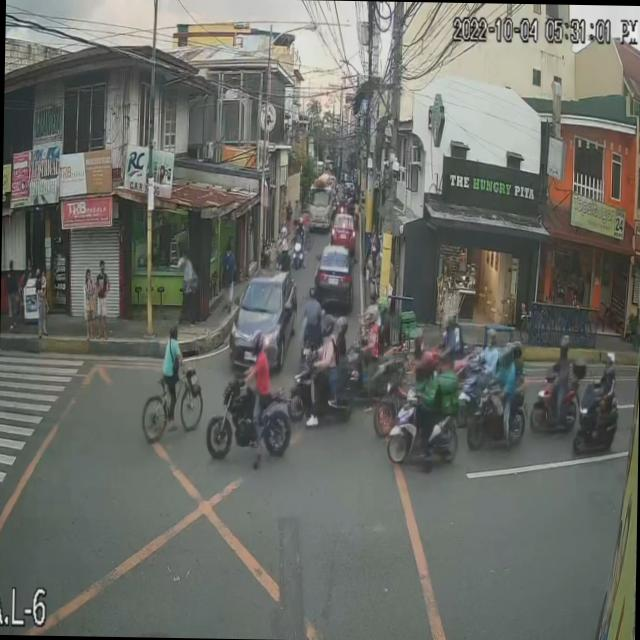full: (320, 313, 335, 337), (362, 303, 378, 325), (502, 340, 514, 368), (250, 330, 264, 354), (578, 336, 589, 357), (486, 326, 496, 348), (512, 338, 522, 358)
half: (420, 350, 435, 376), (408, 327, 424, 351), (336, 314, 348, 336), (378, 295, 392, 313)
